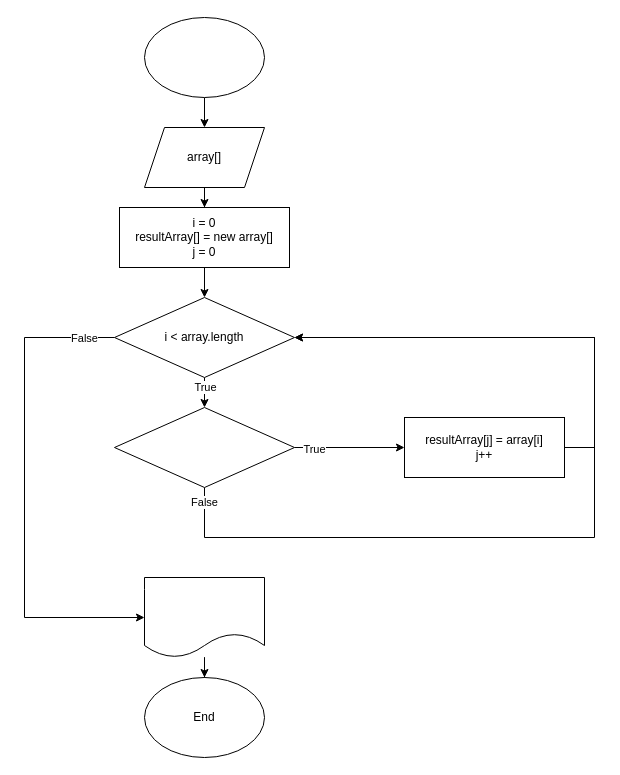
Image size: 620x775. Some labels were removed from this diagram. The centre of each missing label's shape, as x and y in pixels:
array[i].length <= 3: the point at 204,447
resultArray: the point at 204,617
Start: the point at 204,57
